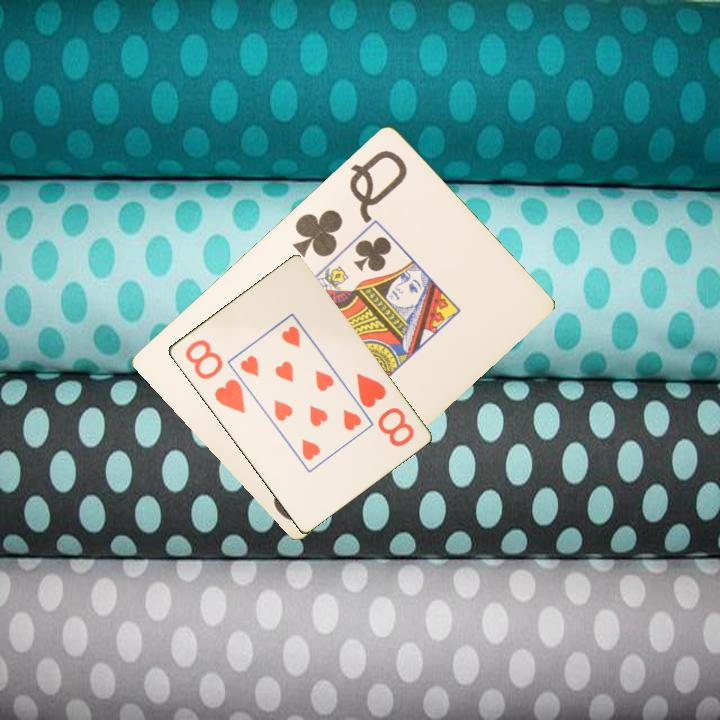8h: (181, 336, 248, 417), (352, 369, 417, 450)
Qc: (288, 145, 411, 260)
